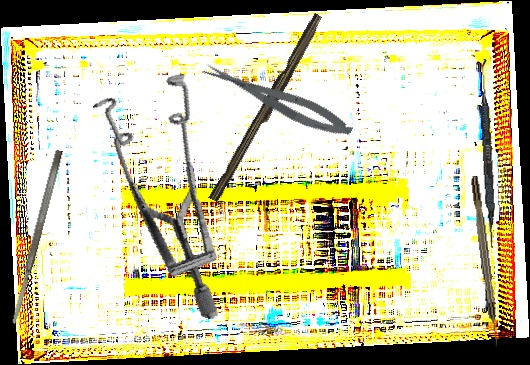Hook Surgical: (470, 175, 501, 349)
Micro Scissor: (200, 53, 356, 145)
Scalpel Handle: (208, 11, 327, 206)
Spatula Surgical: (8, 149, 65, 325), (475, 58, 500, 249)
Speculum: (46, 52, 280, 322)
